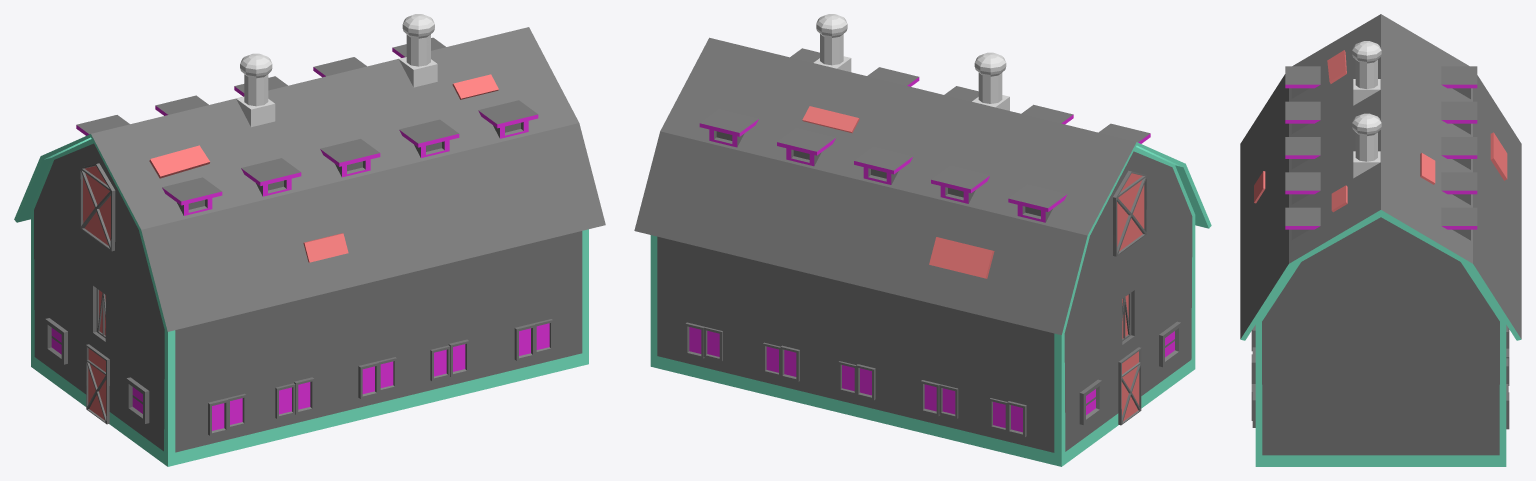
Rendered from Red_Barn.fbx.
3 renders of one model, left to right at view 1: azimuth 30°, elevation 25°; view 2: azimuth 150°, elevation 25°; view 3: azimuth 270°, elevation 25°, orthographic. The views are drawn at different scales.
Parts seen in each view (by area): view 1: Object001, Box015, Object002, Object003, Box017, Box016, Box018, Box020, Box019, Cylinder018, Cylinder017, Box036 (+11 smaller); view 2: Object001, Box015, Object002, Object003, Box021, Box025, Box022, Box024, Box023, Cylinder018, Cylinder017, Box029 (+6 smaller); view 3: Box015, Object001, Cylinder018, Cylinder017, Box022, Box025, Box021, Box024, Box017, Box020, Box023, Box016 (+4 smaller).
Part boxes in pixels (x1=…): Object001: x1=14, y1=27, x2=605, y2=331; Box015: x1=31, y1=139, x2=588, y2=466; Object002: x1=80, y1=163, x2=115, y2=251; Object003: x1=86, y1=344, x2=109, y2=424; Box017: x1=241, y1=158, x2=301, y2=196; Box016: x1=162, y1=177, x2=222, y2=215; Box018: x1=320, y1=139, x2=380, y2=177; Box020: x1=478, y1=100, x2=538, y2=138; Box019: x1=399, y1=119, x2=459, y2=157; Cylinder018: x1=240, y1=53, x2=272, y2=106; Cylinder017: x1=402, y1=14, x2=434, y2=66; Box036: x1=430, y1=339, x2=469, y2=380; Object001: x1=634, y1=37, x2=1211, y2=335; Box015: x1=650, y1=147, x2=1195, y2=466; Object002: x1=1113, y1=170, x2=1147, y2=256; Object003: x1=1118, y1=347, x2=1141, y2=425; Box021: x1=1008, y1=184, x2=1067, y2=222; Box025: x1=699, y1=109, x2=758, y2=147; Box022: x1=931, y1=165, x2=989, y2=203; Box024: x1=777, y1=128, x2=835, y2=166; Box023: x1=854, y1=147, x2=912, y2=184; Cylinder018: x1=974, y1=52, x2=1006, y2=103; Cylinder017: x1=816, y1=14, x2=847, y2=65; Box029: x1=920, y1=380, x2=958, y2=418; Box015: x1=1255, y1=213, x2=1506, y2=466; Object001: x1=1240, y1=14, x2=1521, y2=340; Cylinder018: x1=1352, y1=41, x2=1381, y2=88; Cylinder017: x1=1352, y1=113, x2=1381, y2=161; Box022: x1=1441, y1=101, x2=1477, y2=134; Box025: x1=1441, y1=207, x2=1477, y2=240; Box021: x1=1441, y1=66, x2=1477, y2=98; Box024: x1=1441, y1=172, x2=1477, y2=204; Box017: x1=1285, y1=101, x2=1320, y2=133; Box020: x1=1285, y1=207, x2=1320, y2=239; Box023: x1=1441, y1=137, x2=1477, y2=169; Box016: x1=1285, y1=66, x2=1320, y2=98.
Size of the model in its own units: 305 by 220 by 185.
